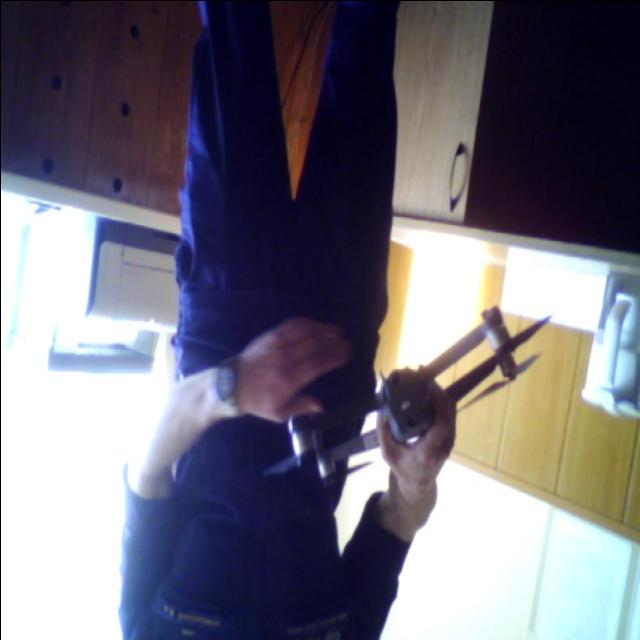drone: (261, 299, 551, 487)
